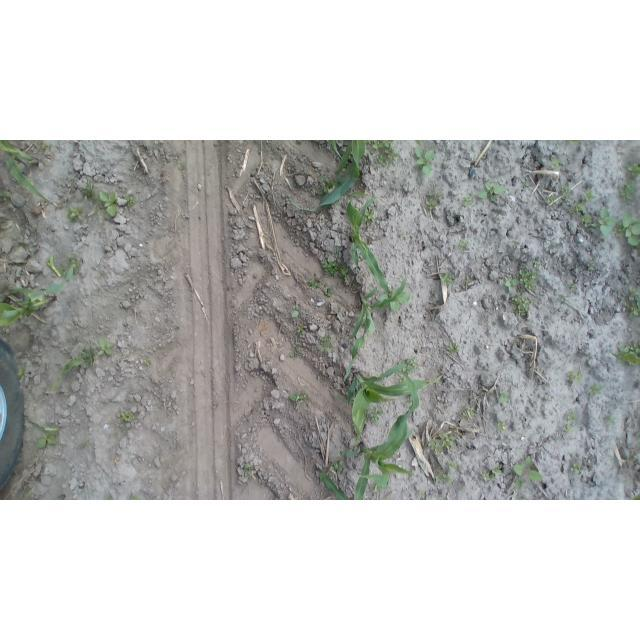Maize: (317, 373, 420, 500), (341, 268, 407, 385), (348, 363, 444, 440), (284, 141, 364, 211), (1, 261, 76, 331), (347, 194, 391, 298), (0, 140, 56, 208)
Weeds: (514, 456, 543, 488), (62, 353, 97, 374), (617, 216, 639, 248), (379, 290, 410, 311), (35, 427, 59, 451), (373, 141, 396, 164), (477, 180, 502, 201), (416, 148, 436, 174), (510, 296, 535, 316), (430, 435, 456, 454), (598, 206, 615, 235), (616, 344, 640, 364), (100, 191, 118, 217), (625, 286, 640, 317), (322, 260, 349, 277), (520, 268, 538, 289), (289, 392, 307, 408), (426, 191, 442, 208), (98, 339, 113, 357), (118, 407, 136, 422), (617, 185, 635, 200), (369, 407, 384, 425), (567, 368, 583, 384), (504, 276, 519, 292), (68, 206, 84, 220), (319, 335, 333, 351), (78, 184, 94, 197), (330, 461, 347, 473), (547, 157, 562, 170), (583, 212, 595, 228), (1, 185, 12, 202), (581, 188, 595, 201), (557, 185, 571, 198), (406, 356, 419, 370), (604, 415, 617, 428), (569, 201, 582, 214), (628, 162, 639, 177), (307, 277, 322, 288), (365, 211, 375, 226), (588, 383, 600, 395), (19, 366, 30, 379), (443, 272, 454, 285), (323, 180, 334, 193), (462, 196, 474, 207), (497, 420, 508, 432), (448, 343, 460, 354), (291, 304, 301, 317), (499, 392, 509, 404), (568, 410, 577, 423), (128, 193, 136, 207), (561, 423, 572, 433), (492, 466, 502, 477), (571, 463, 581, 473), (569, 281, 578, 292), (325, 287, 334, 298), (459, 239, 468, 249), (297, 324, 306, 334), (449, 461, 457, 471), (568, 140, 581, 146), (466, 276, 473, 287), (482, 473, 490, 482), (521, 179, 529, 188), (535, 261, 542, 271), (588, 262, 596, 270), (510, 240, 518, 248)
